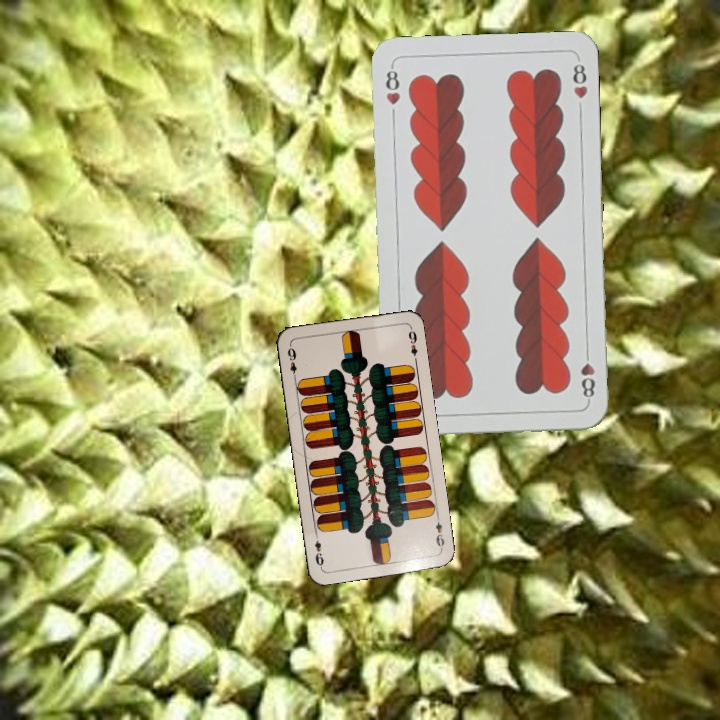E9: (283, 342, 299, 382), (431, 512, 447, 552)
H8: (577, 345, 597, 404), (382, 61, 402, 108)
